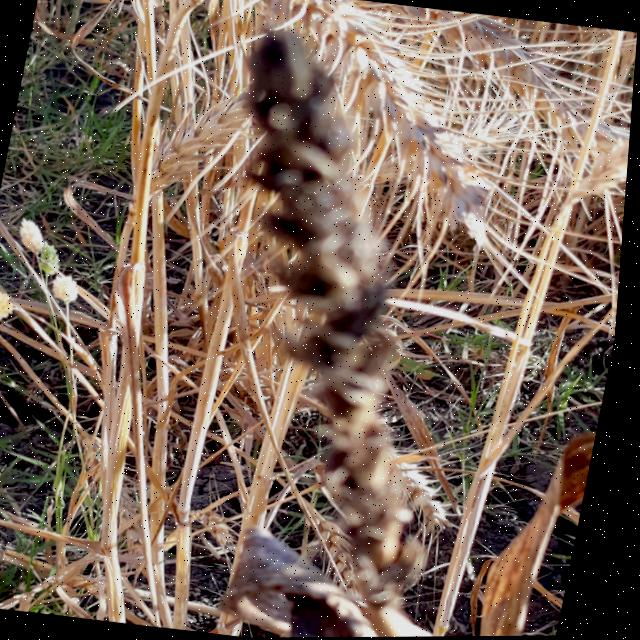loose_charred: (151, 17, 533, 639), (460, 418, 603, 637)
